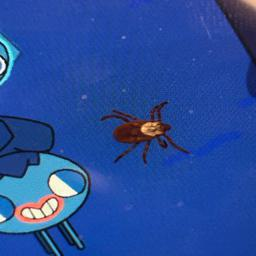Dermacentor variabilis: (97, 100, 193, 166)
